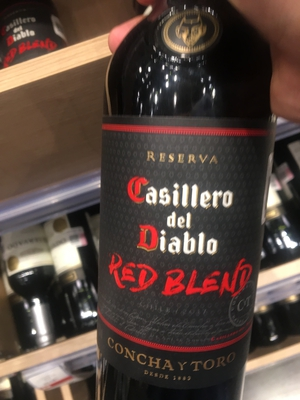casillero del diablo red blend: (77, 13, 275, 400)
